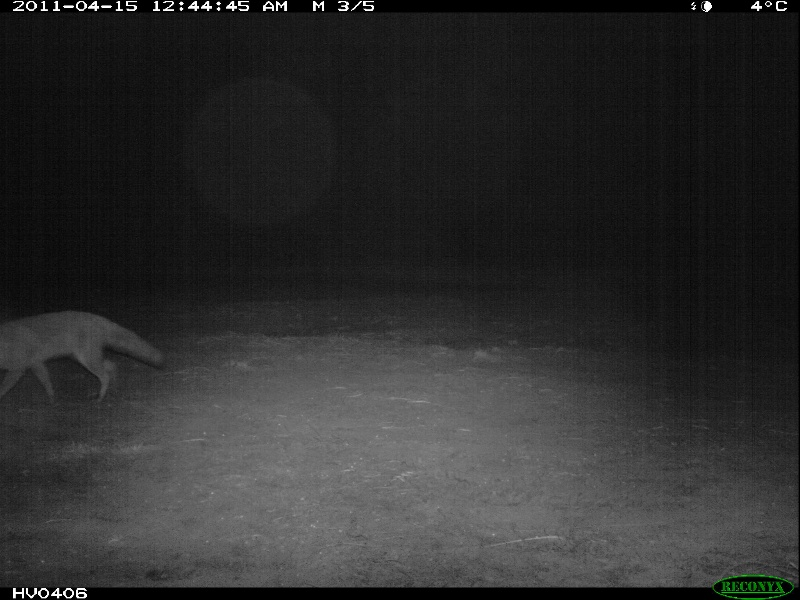fox: (1, 305, 168, 401)
